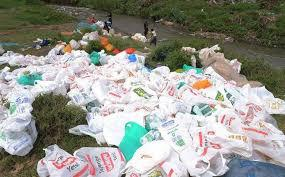Plastic: (160, 114, 212, 176), (0, 103, 43, 162), (35, 145, 91, 176), (73, 142, 124, 176), (106, 79, 134, 108), (254, 92, 284, 118), (92, 82, 114, 104)
